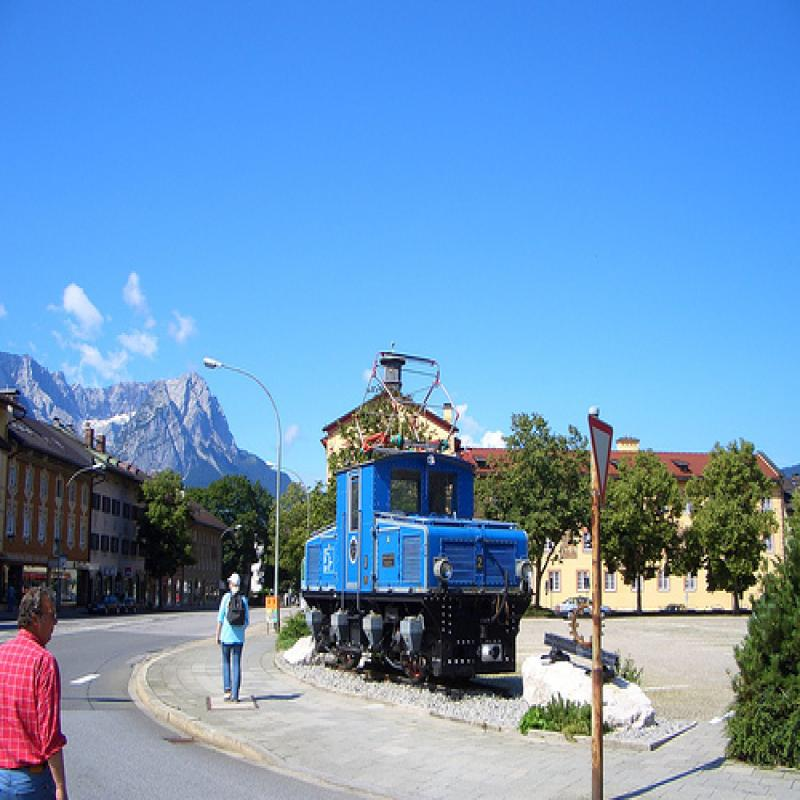train: (300, 342, 537, 686)
